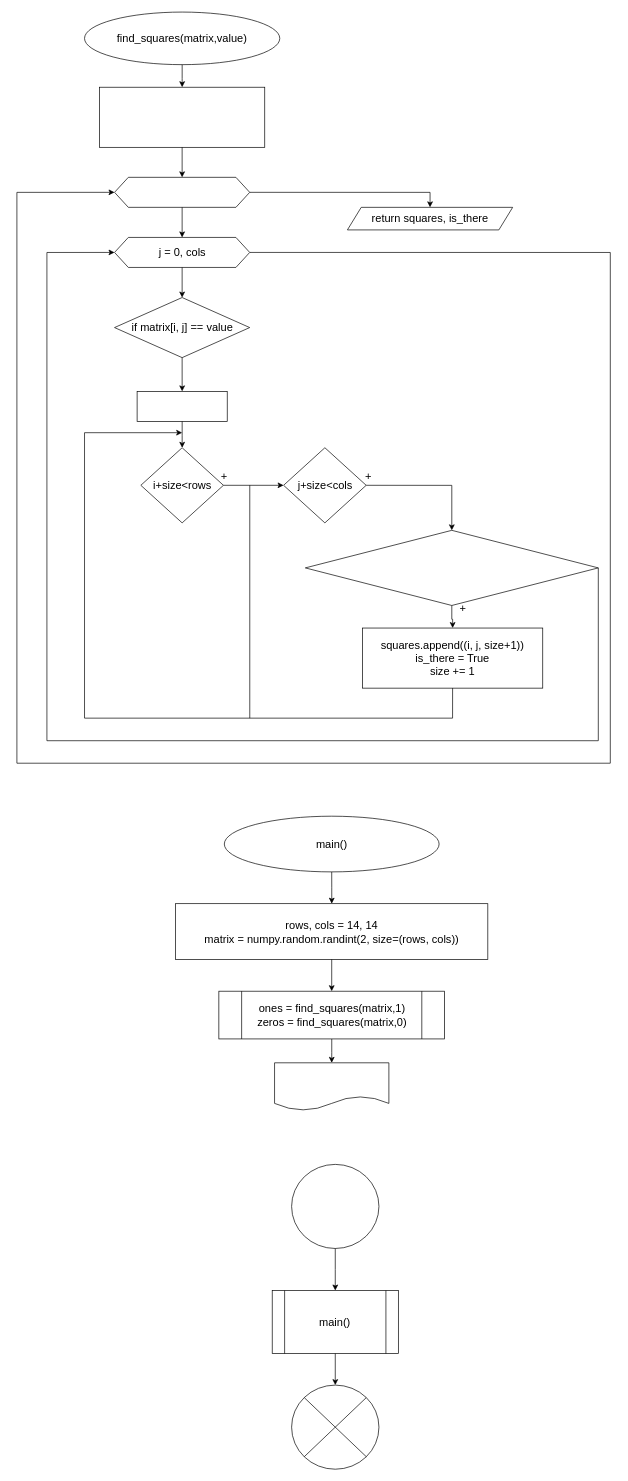
This 628x1481 diagram has some shape labels left out. The shapes that lost their labels are listed below. From the top down, each one's centre as x and y in pixels, then its label:
At (x=182, y=117): "rows,cols = matrix.shape squared = [] is_there = False".
At (x=182, y=192): "i = 0, rows".
At (x=181, y=406): "size = 1".
At (x=451, y=567): "numpy.all(matrix[i:i+size+1, j:j+size+1] == value)".
At (x=331, y=1086): "matrix, ones,zeros".
